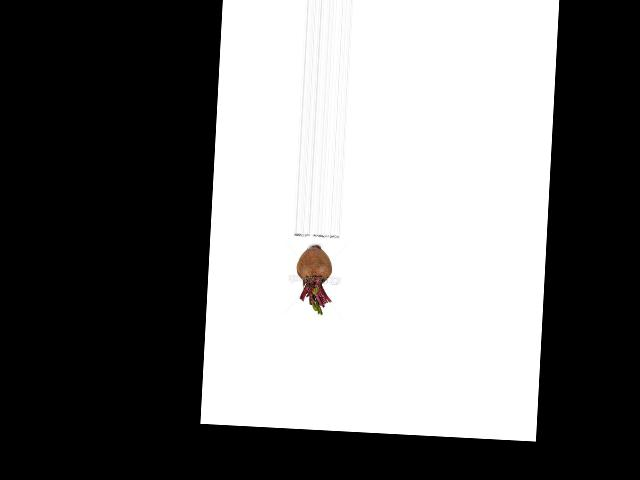beet: (293, 244, 333, 315)
